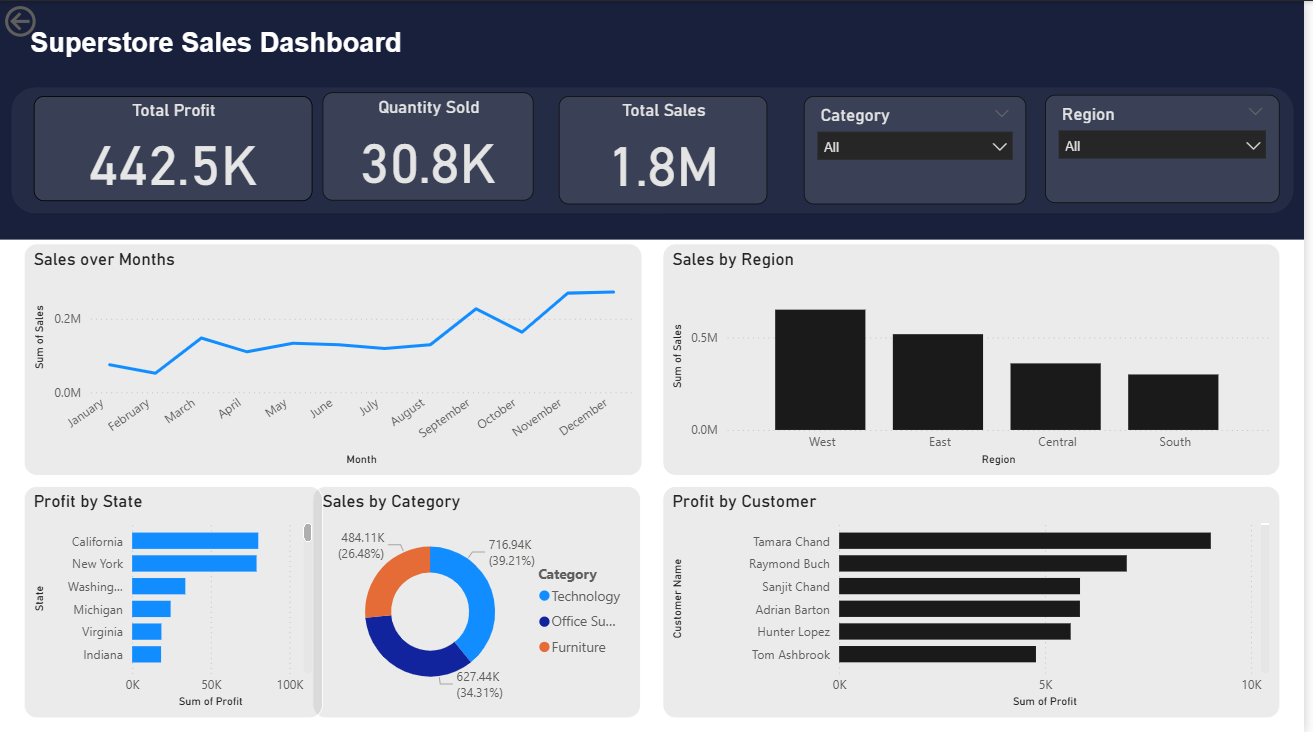

Layout of this report page (visuals, bound fields, positions):
{"tool":"powerbi","page":{"name":"Page 1","canvas":[1280,720],"ordinal":0},"visuals":[{"type":"card","title":"Quantity  Sold","fields":{"Values":["Sample - Superstore (4).Quantity"]},"box":[316.6,89.6,207.4,106.7],"z":0},{"type":"card","title":"Total Sales","fields":{"Values":["Sample - Superstore (4).Sales"]},"box":[548.5,93.3,204.9,106.7],"z":1000},{"type":"actionButton","box":[0,0,100,40],"z":2000},{"type":"slicer","fields":{"Values":["Sample - Superstore (4).Category"]},"box":[789,93.3,218.4,106.7],"z":3000},{"type":"slicer","fields":{"Values":["Sample - Superstore (4).Region"]},"box":[1025.8,92,230.7,106.7],"z":4000},{"type":"shape","box":[11,84.7,1258.9,123.9],"z":5000},{"type":"textbox","box":[9.6,20.6,1259.7,45.3],"z":6000},{"type":"lineChart","title":"Sales over Months","fields":{"Y":["Sample - Superstore (4).Sales"],"Category":["Sample - Superstore (4).Order Date.Variation.Date Hierarchy.Month"]},"box":[23.3,238,607.4,228.2],"z":7000},{"type":"columnChart","title":"Sales by Region","fields":{"Y":["Sample - Superstore (4).Sales"],"Category":["Sample - Superstore (4).Region"]},"box":[650.3,238,606.1,228.2],"z":8000},{"type":"donutChart","title":"Sales by Category","fields":{"Y":["Sample - Superstore (4).Sales"],"Category":["Sample - Superstore (4).Category"]},"box":[306.8,476.1,322.7,228.2],"z":9000},{"type":"clusteredBarChart","title":"Profit by State","fields":{"Category":["Sample - Superstore (4).State"],"Y":["Sample - Superstore (4).Profit"]},"box":[23.3,476.1,293.3,228.2],"z":10000},{"type":"clusteredBarChart","title":"Profit by Customer","fields":{"Y":["Sample - Superstore (4).Profit"],"Category":["Sample - Superstore (4).Customer Name"]},"box":[650,476,606,228],"z":12000},{"type":"card","title":"Total Profit","fields":{"Values":["Sample - Superstore (4).Profit"]},"box":[33.1,93.3,273.6,103.1],"z":12001}]}

Visuals, with their boxes in screenshot pixels (x1, y1, x2, y2), scaled from the page's 1280x720 canvas onto the 1313x732 screenshot:
"Quantity  Sold" card: <region>325, 91, 538, 200</region>
"Total Sales" card: <region>563, 95, 773, 203</region>
actionButton: <region>0, 0, 103, 41</region>
slicer - Sample - Superstore (4).Category: <region>809, 95, 1033, 203</region>
slicer - Sample - Superstore (4).Region: <region>1052, 94, 1289, 202</region>
shape: <region>11, 86, 1303, 212</region>
textbox: <region>10, 21, 1302, 67</region>
"Sales over Months" lineChart: <region>24, 242, 647, 474</region>
"Sales by Region" columnChart: <region>667, 242, 1289, 474</region>
"Sales by Category" donutChart: <region>315, 484, 646, 716</region>
"Profit by State" clusteredBarChart: <region>24, 484, 325, 716</region>
"Profit by Customer" clusteredBarChart: <region>667, 484, 1288, 716</region>
"Total Profit" card: <region>34, 95, 315, 200</region>
